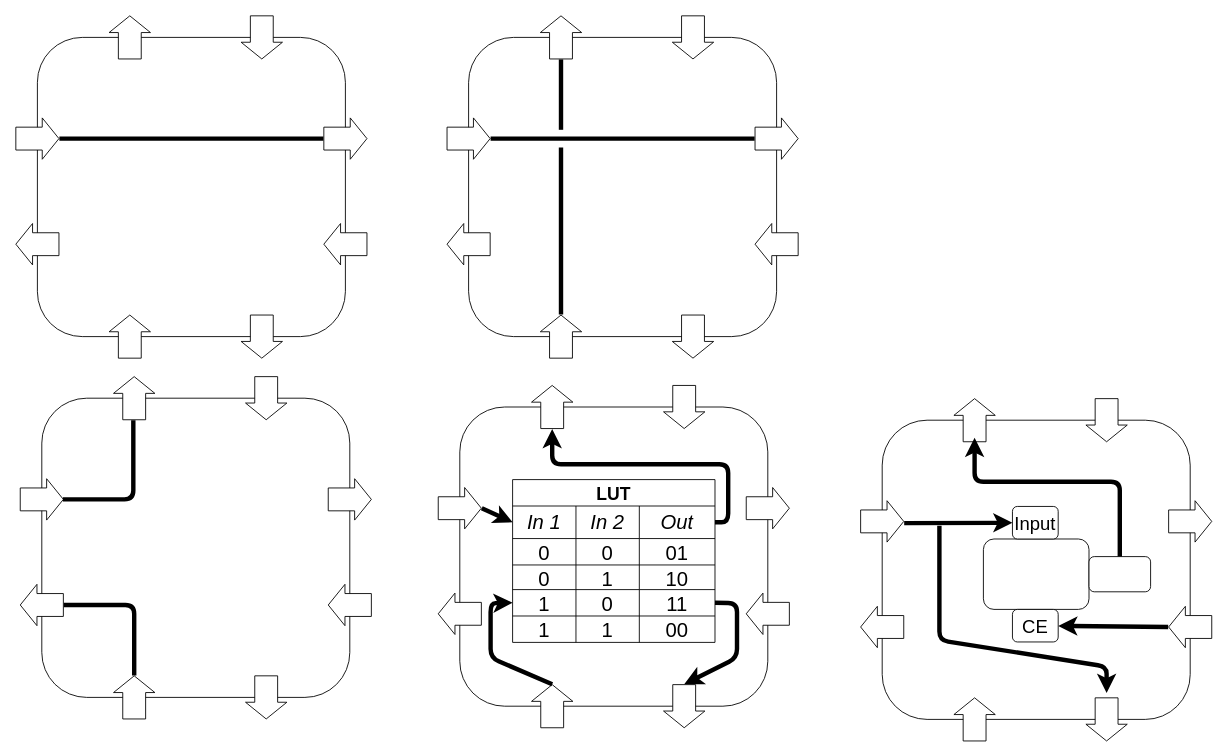
This 1227x756 diagram has some shape labels left out. Here are the shapes that lost their labels. From the top down, the centre of each, then its label:
At point 1036,573: "Register".
At point 1119,574: "Output".
